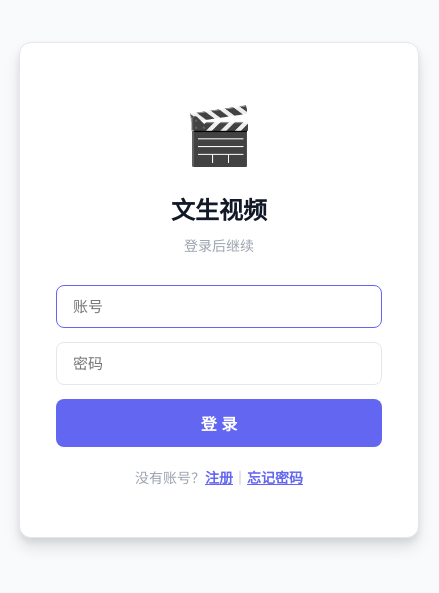
表单验证 › 空账号密码显示错误
Click the button "登 录" at (219, 423), box [56,399,382,447]
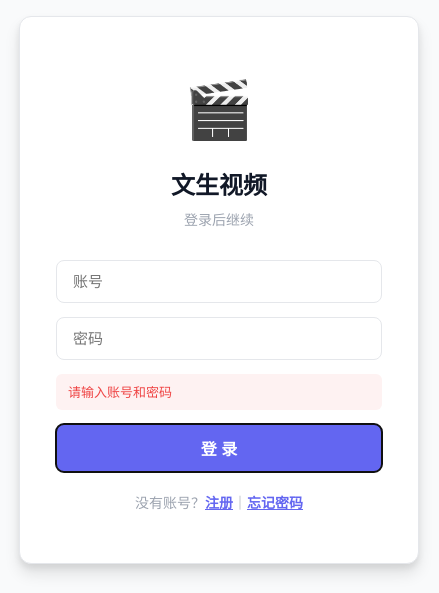
Now the text "请输入账号和密码" is shown, box [56,374,382,410]
